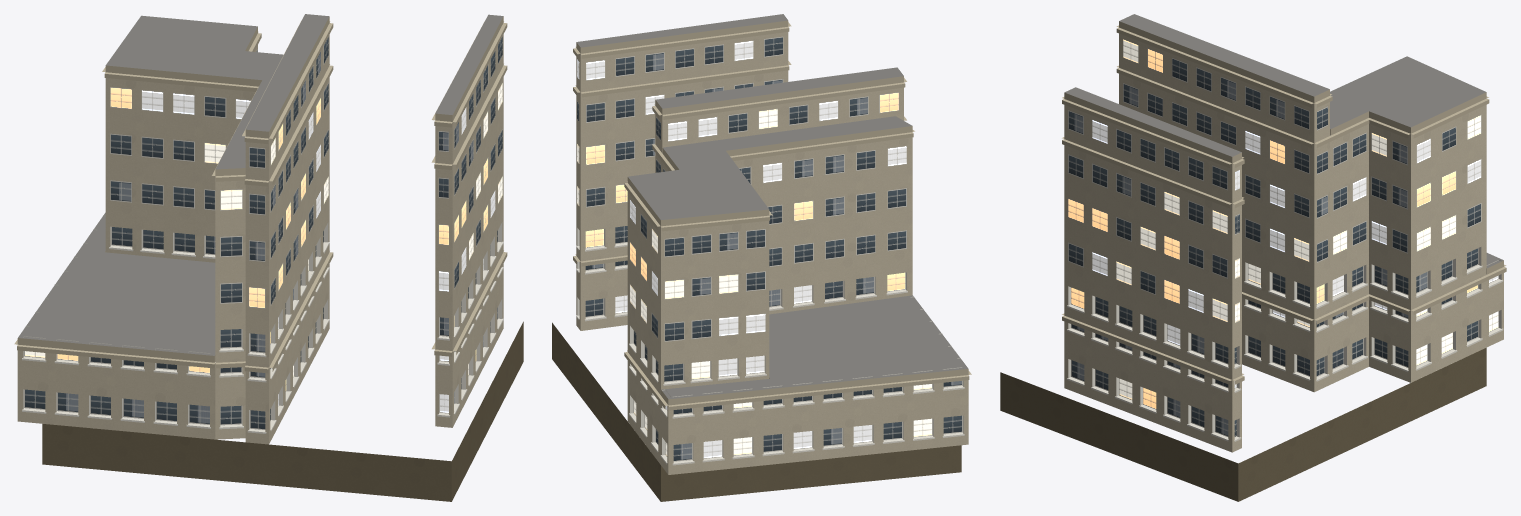
The model's file is z2c_ufer_beige.glb.
3 views of the same model, side by side, from view 1: azimuth 30°, elevation 25°; view 2: azimuth 150°, elevation 25°; view 3: azimuth 270°, elevation 25° (orthographic). The views are drawn at different scales.
Visible parts, largest first — view 1: z2c_ufer_beige; view 2: z2c_ufer_beige; view 3: z2c_ufer_beige.
Part boxes in pixels (x1,y1,x2,y2): z2c_ufer_beige: (14, 14, 523, 501); z2c_ufer_beige: (552, 14, 971, 501); z2c_ufer_beige: (1000, 14, 1506, 501).
Bounding box in the file's own units: 37.37 × 26.02 × 35.75.
3 materials, 3 textured.
